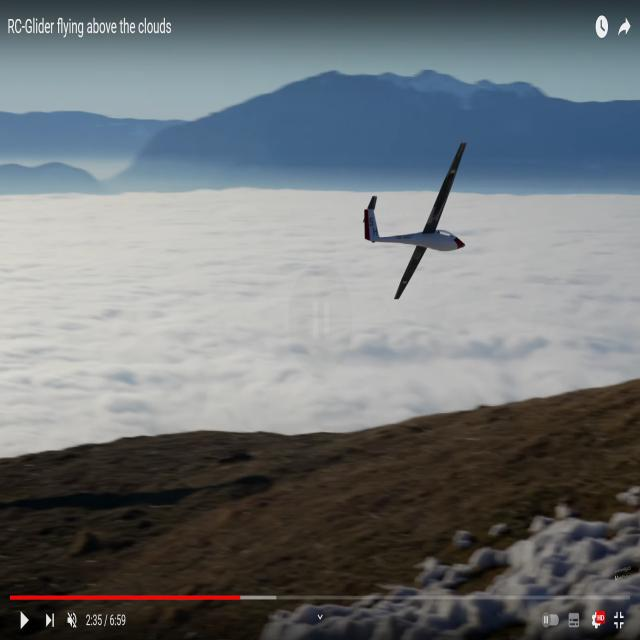iha: (388, 142, 435, 299)
